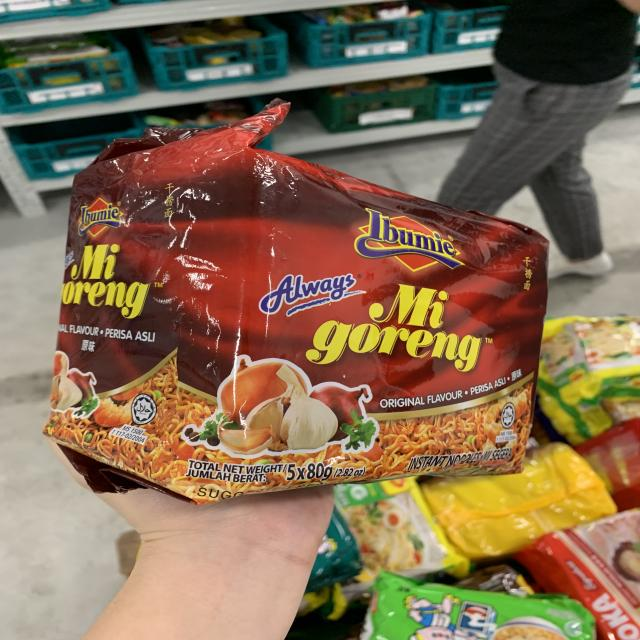object_name: (81, 165, 524, 477)
